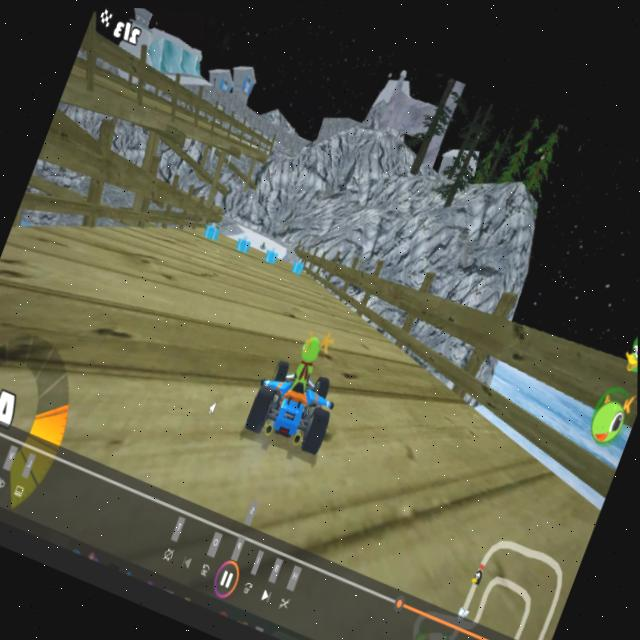0: (259, 240, 284, 271)
bonus: (196, 217, 224, 246), (230, 228, 253, 256), (286, 254, 309, 280)
player_kart: (238, 310, 359, 471)
track: (111, 209, 358, 338)
